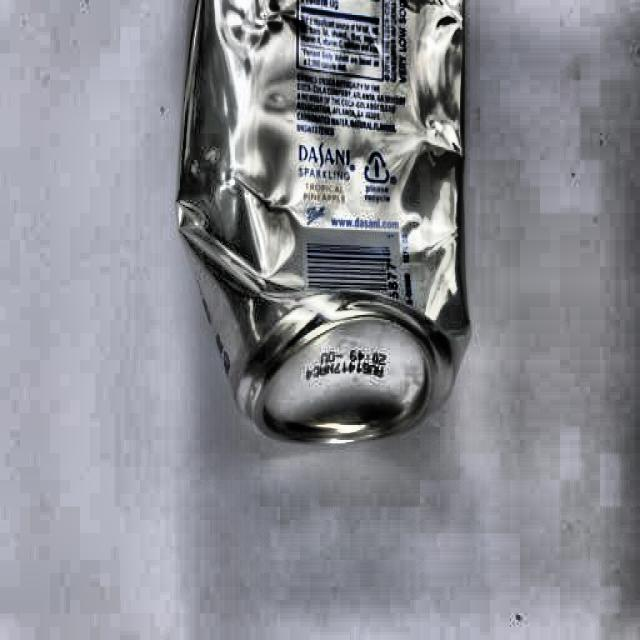metal: (170, 2, 472, 444)
